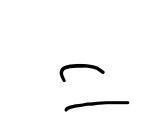eqv: (57, 58, 130, 112)
